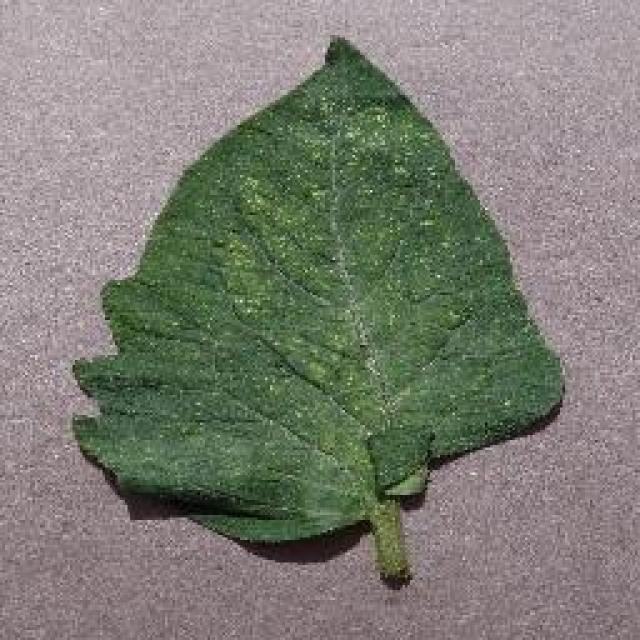Tomato mosaic virus leaf: (71, 31, 564, 549)
